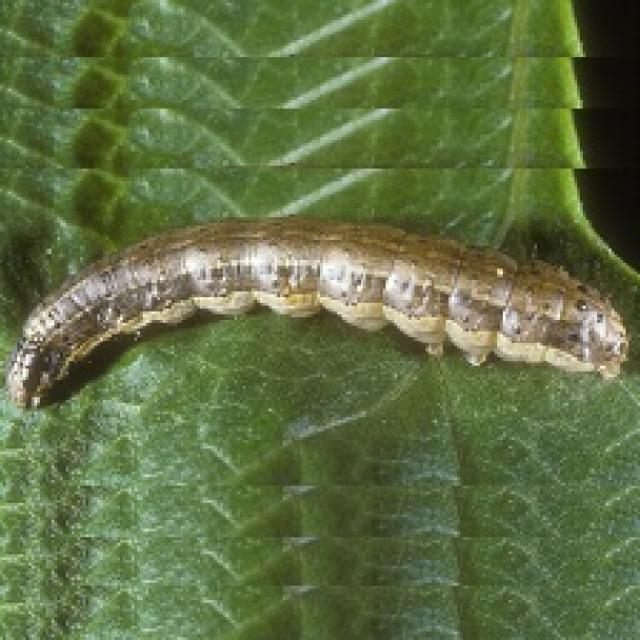worm: (4, 213, 629, 413)
